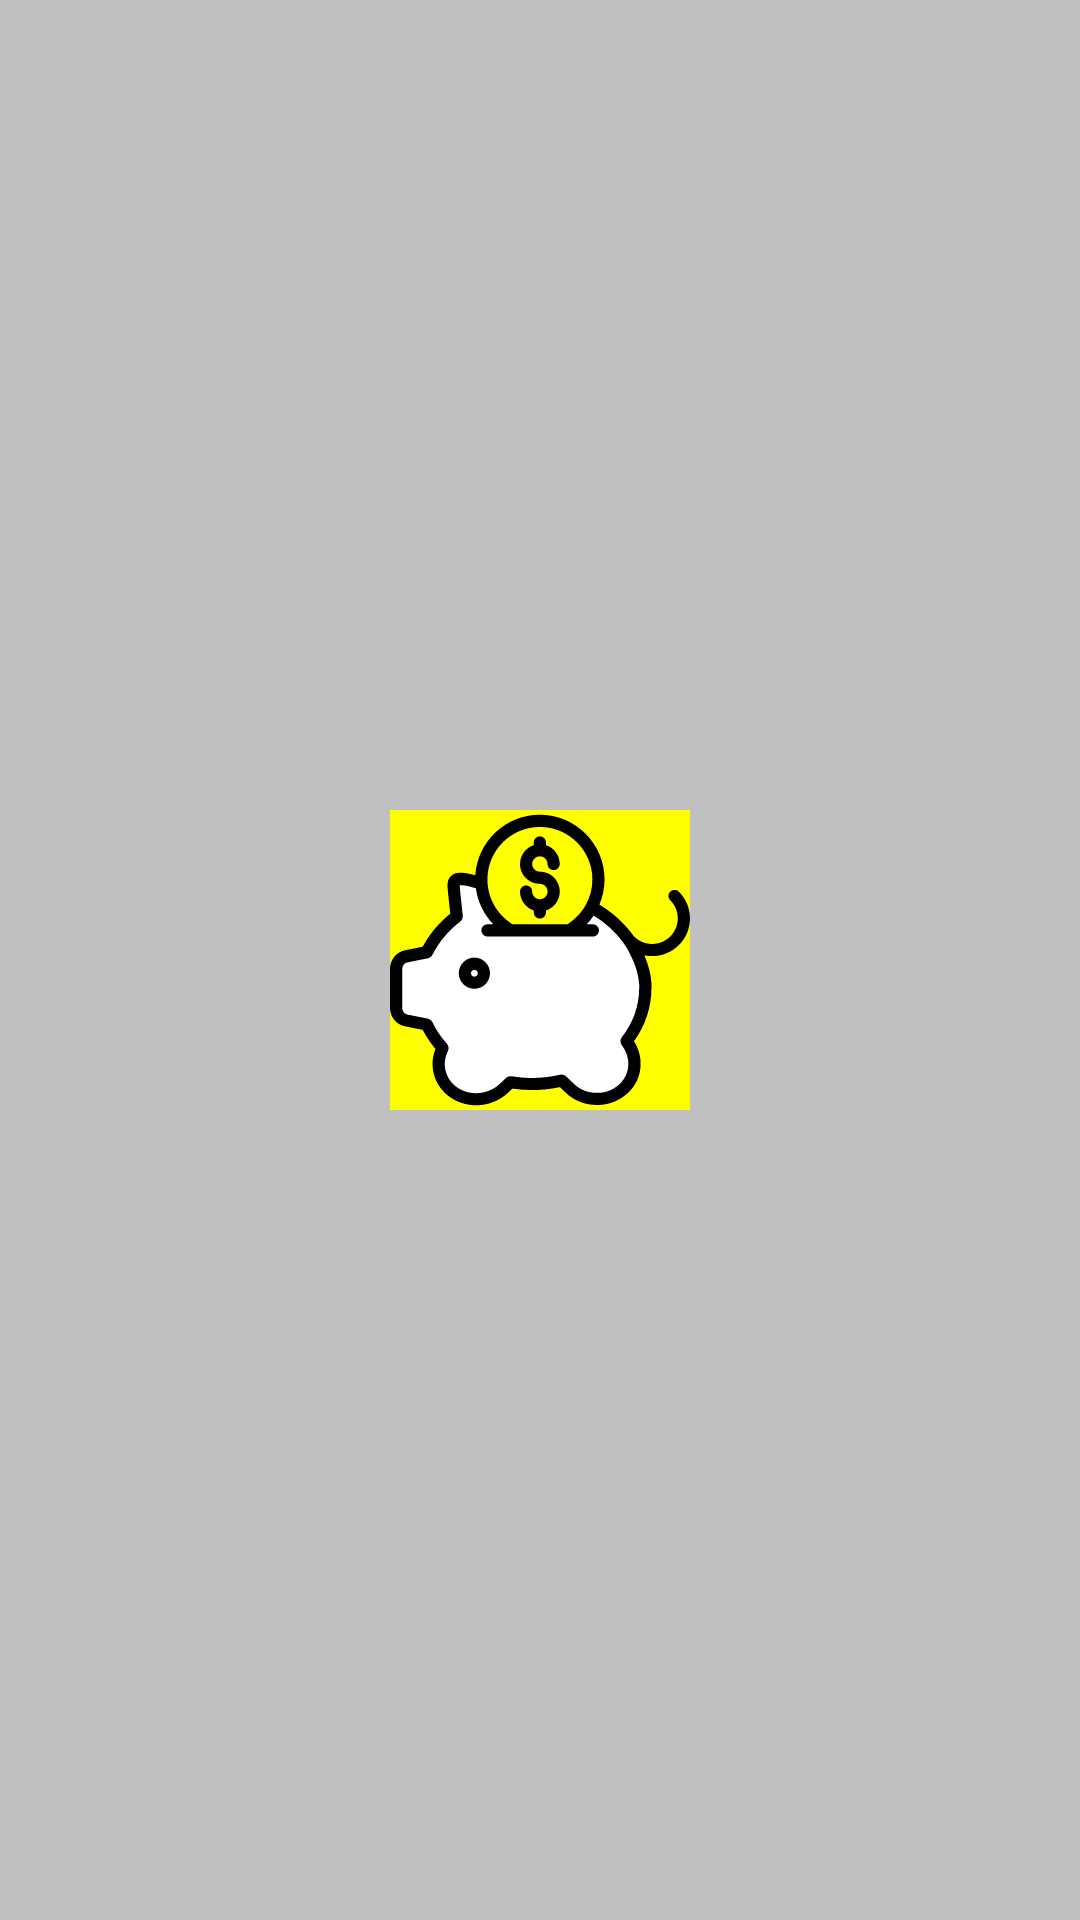

Point at icon controls on the screen. Image size 1080×1920, points as [x,y].
save: [540,960]
